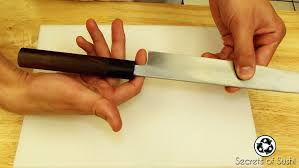knife: (11, 24, 298, 106)
